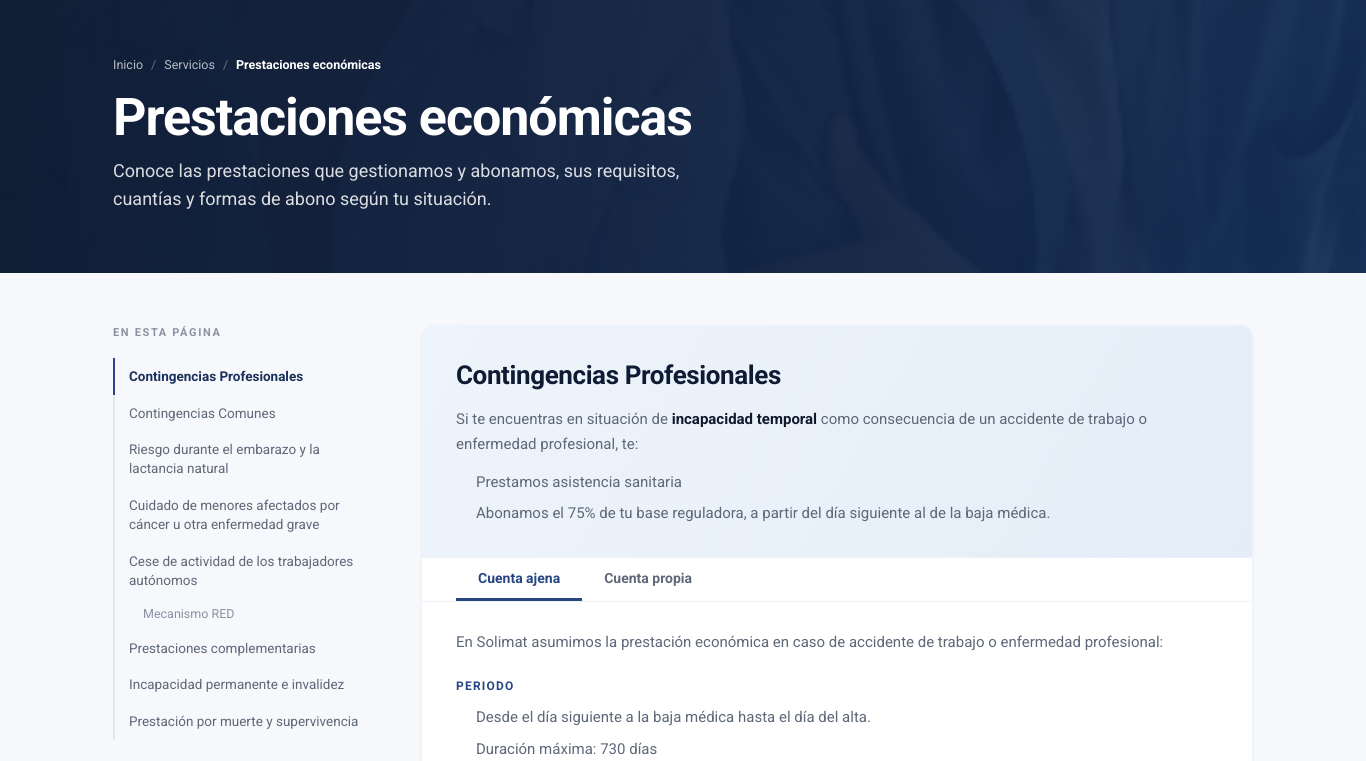
Test: PrestacionesEconomicasPage › shows "Cuenta ajena" content by default and switches to "Cuenta propia"
Expected: the text "Presentar parte de accidente" is not shown
Click the tab "Cuenta propia" at x=648, y=580, box [582,558,714,601]
(page scrolled)
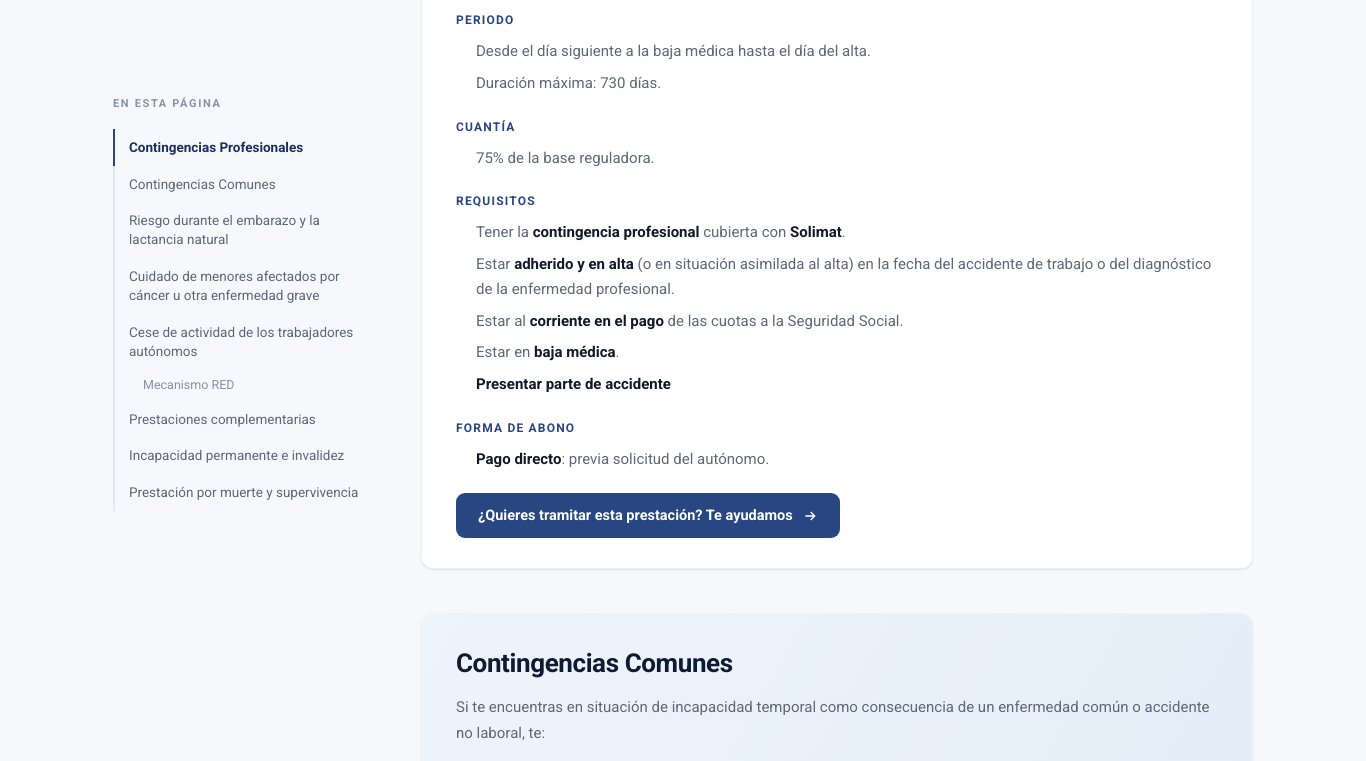
Expected: the text "Presentar parte de accidente" is shown, [476,375,671,393]
